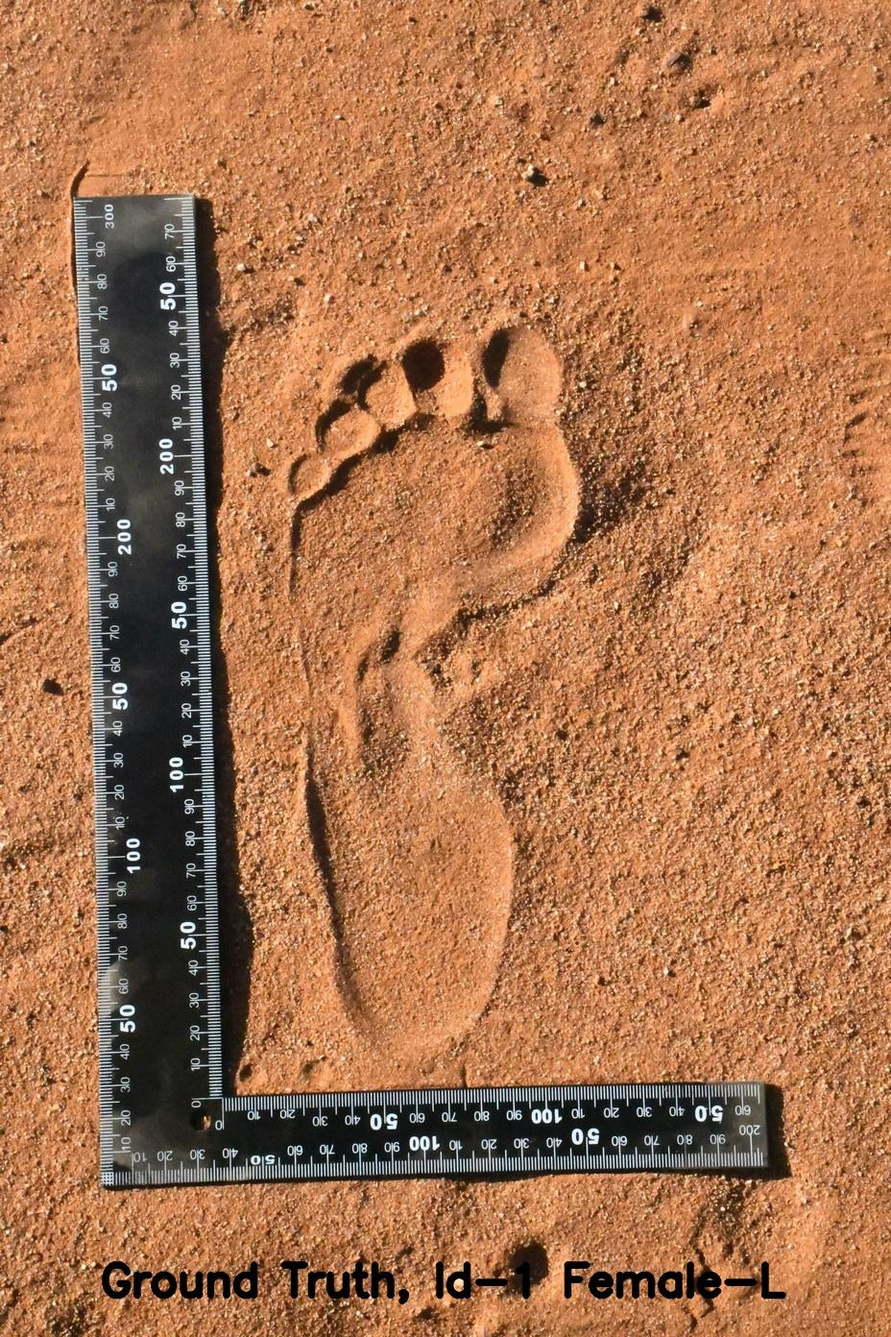human_foot_print: (253, 225, 660, 1069)
